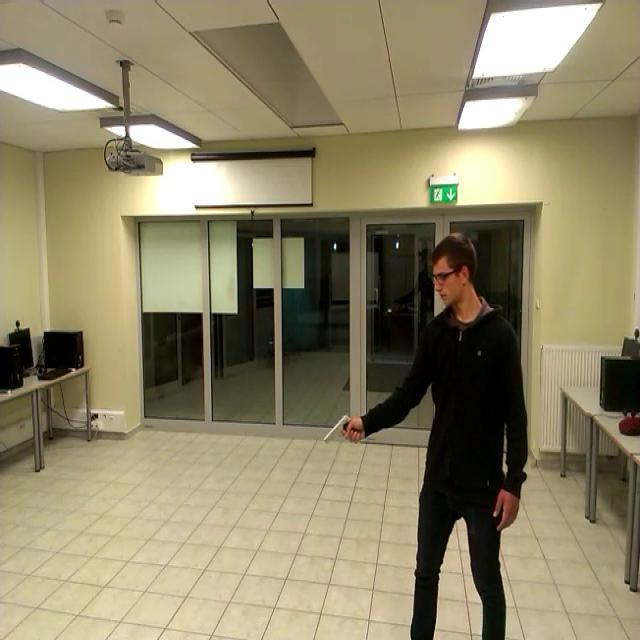Gun: (315, 403, 369, 457)
